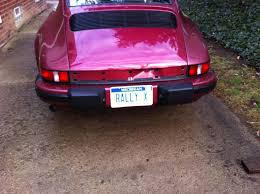boot-dent: (75, 49, 190, 84)
